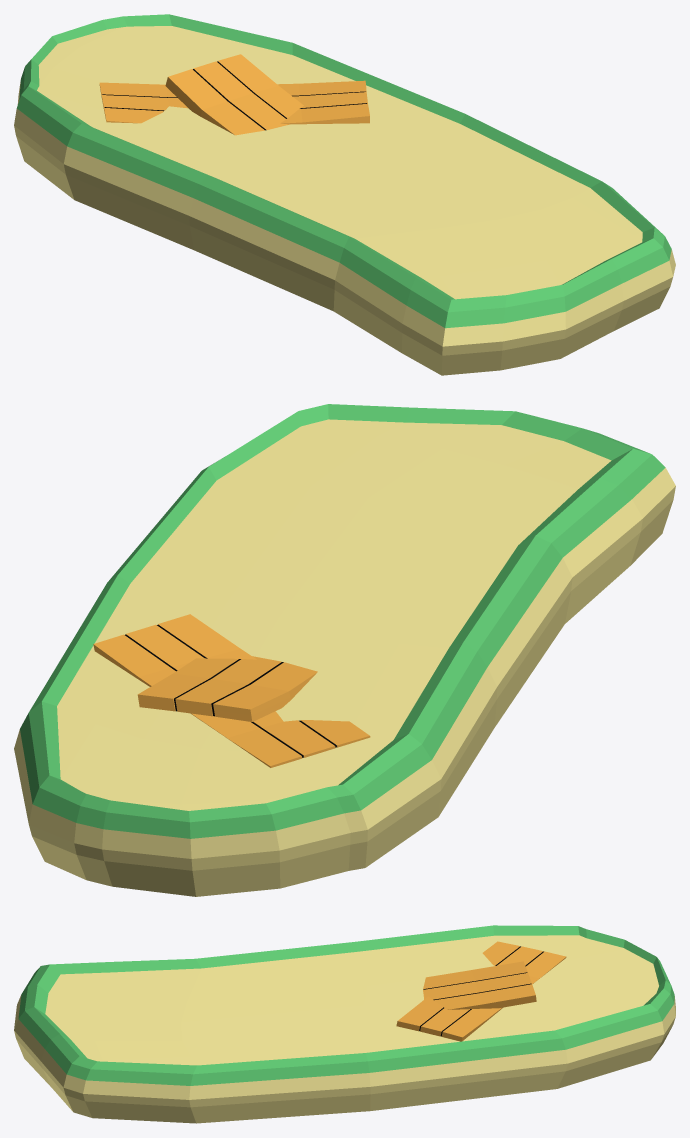
File: MiniPlatform04.fbx
3 renders of one model, top to bottom at view 1: azimuth 30°, elevation 25°; view 2: azimuth 150°, elevation 25°; view 3: azimuth 270°, elevation 25°, orthographic. The views are drawn at different scales.
Visible parts, largest first — view 1: Plane.076; view 2: Plane.076; view 3: Plane.076.
Part boxes in pixels (<box>): Plane.076: <box>14,14,675,375</box>; Plane.076: <box>14,404,675,896</box>; Plane.076: <box>14,925,675,1123</box>.
Bounding box in the file's own units: 1047 × 220 × 1959.
